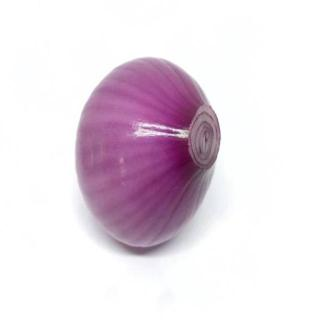Bawang Merah: (73, 54, 224, 252)
